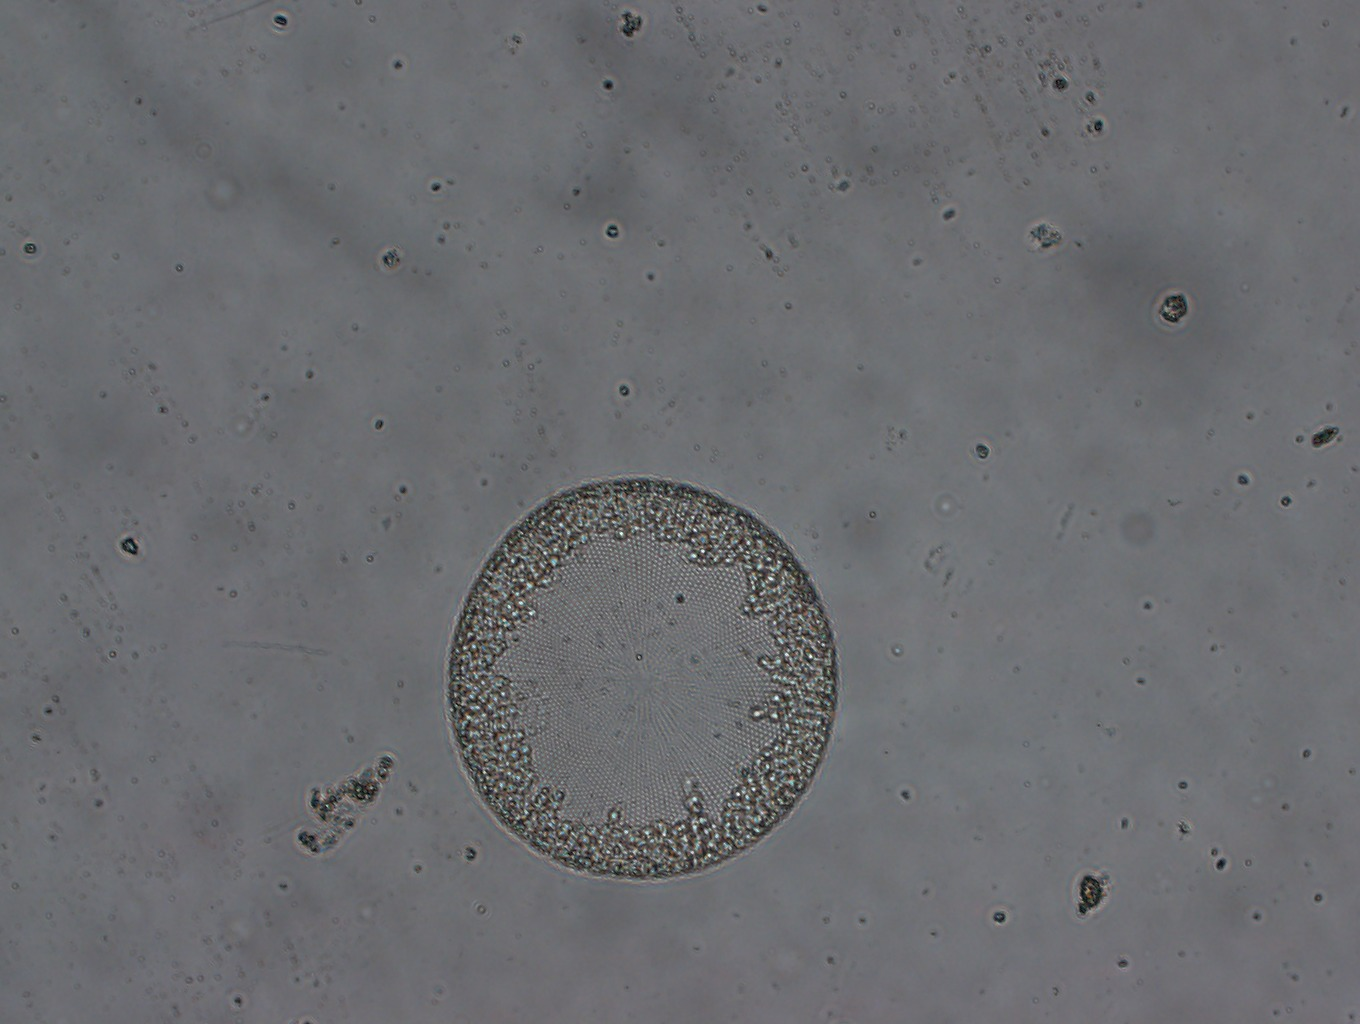coscinodiscus: (444, 474, 841, 883)
